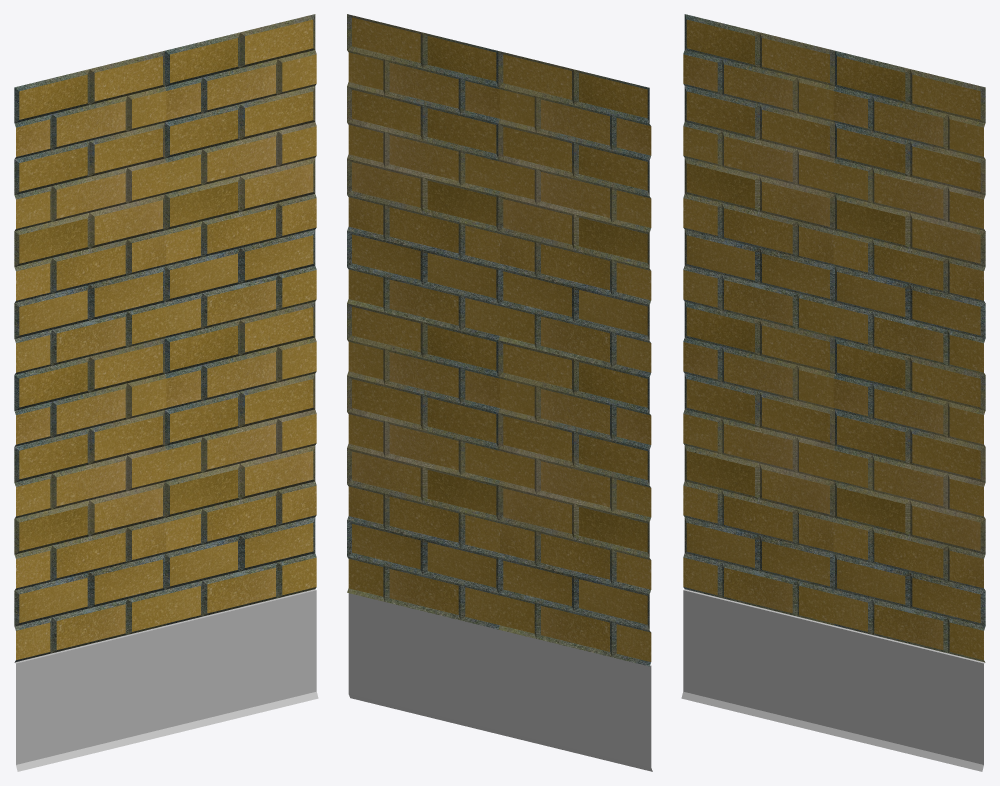
Rendered from Parede2Madeira.fbx.
The picture shows the model from 3 angles, left to right: view 1: azimuth 30°, elevation 25°; view 2: azimuth 150°, elevation 25°; view 3: azimuth 330°, elevation 25°; orthographic projection.
Parts seen in each view (by area): view 1: Plano.004; view 2: Plano.004; view 3: Plano.004.
Part boxes in pixels (x1,y1,x2,y2): Plano.004: (14, 14, 318, 771); Plano.004: (347, 14, 652, 771); Plano.004: (681, 14, 985, 771).
Size of the model in its own units: 5850 by 12676 by 109.
